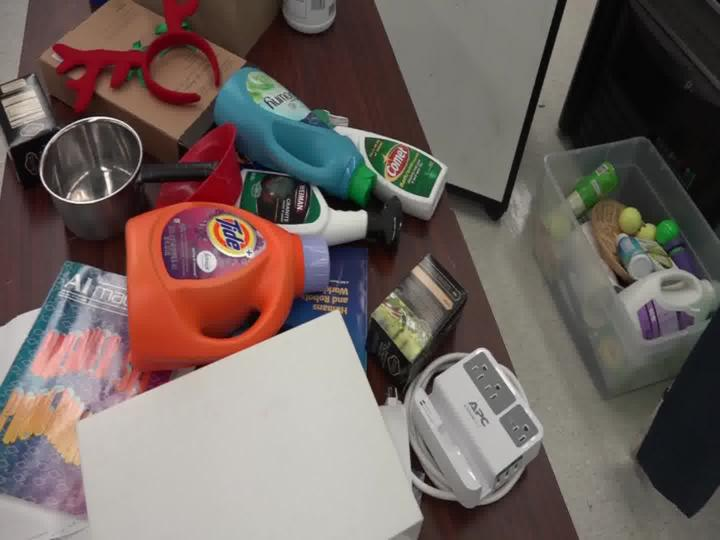tide: (99, 169, 335, 365)
